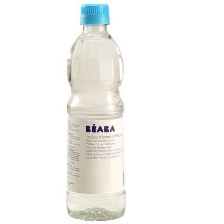bottle: (61, 2, 129, 224)
